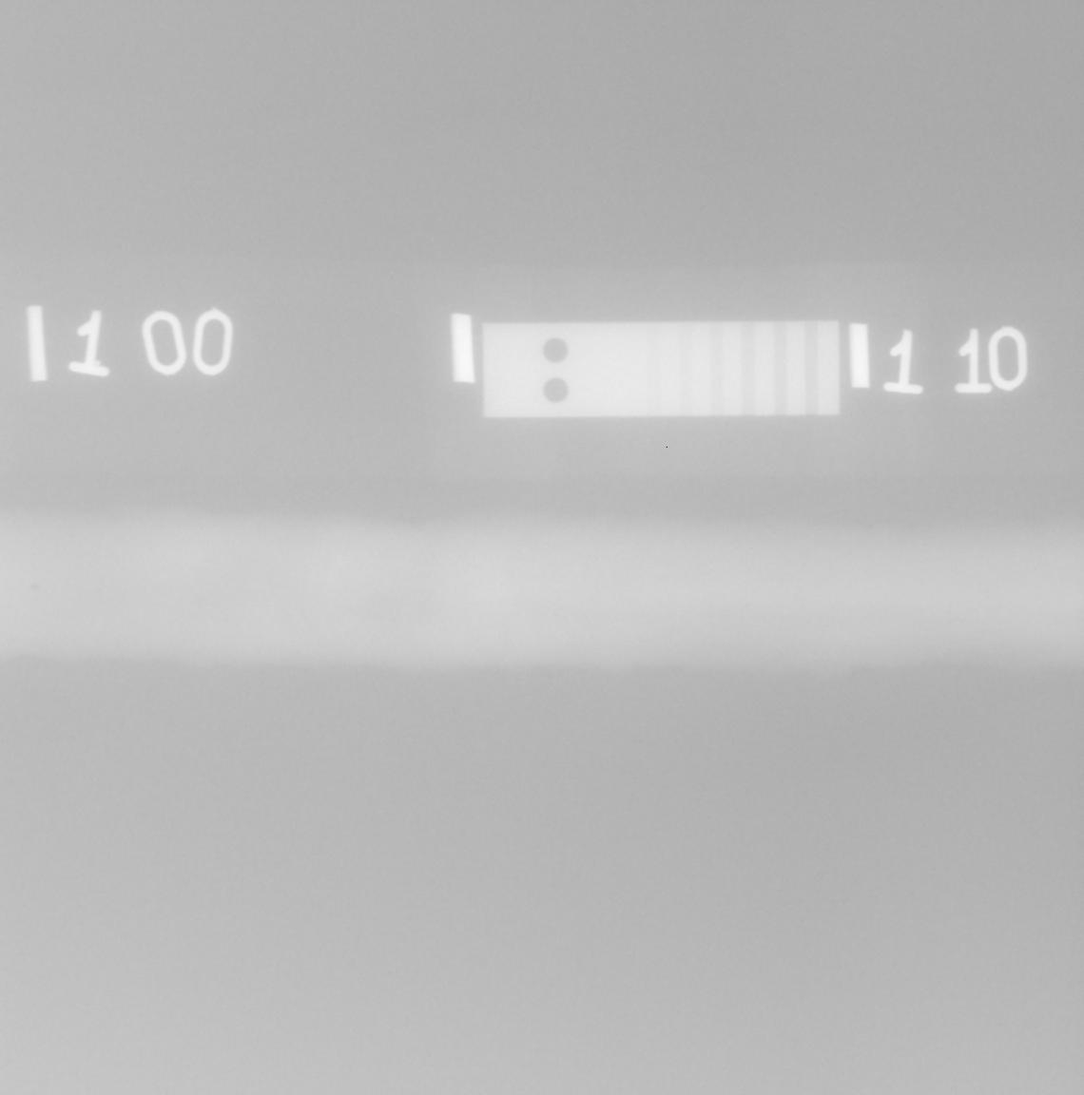Inclusion: (98, 576, 104, 582), (95, 590, 101, 596)
Pore/Porosity: (745, 602, 753, 610), (31, 584, 39, 591)
Reference Standard 2: (482, 320, 840, 418)
